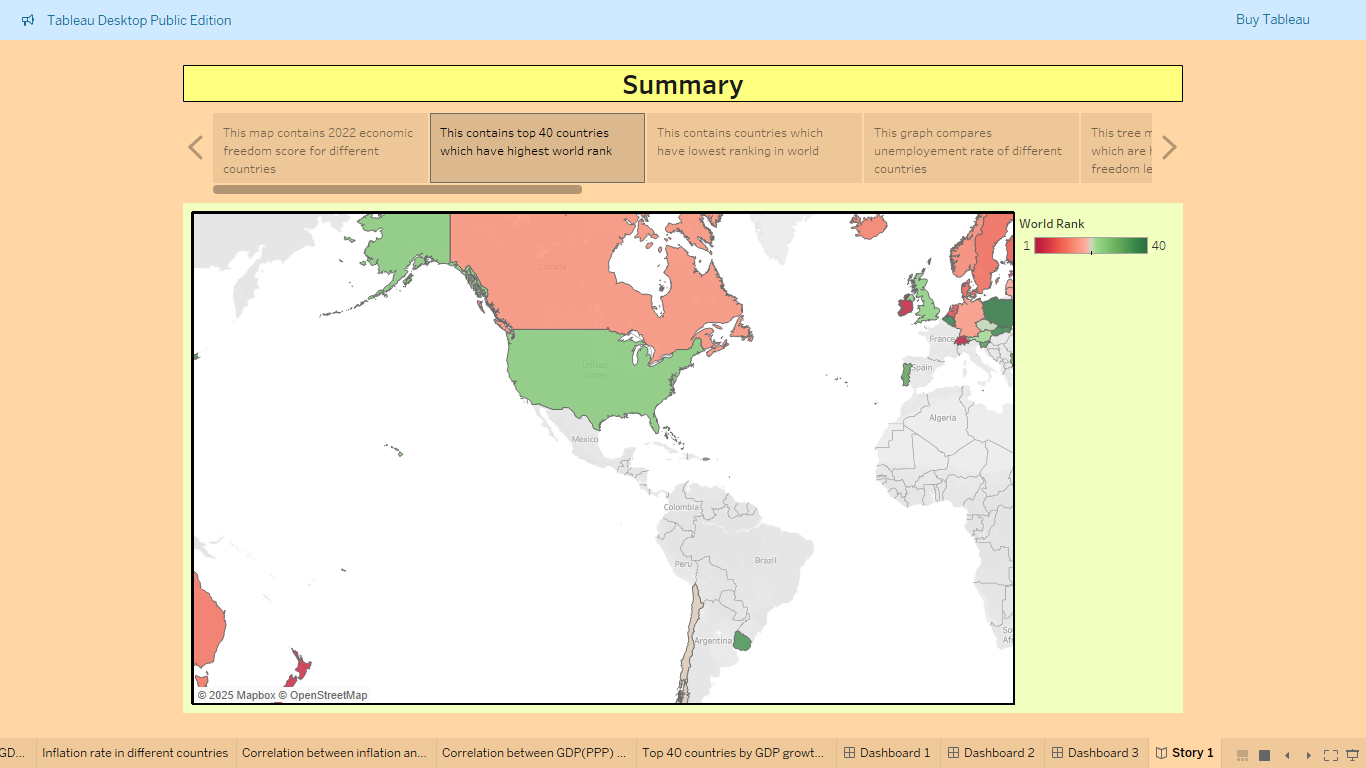

The dashboard page shown, as its layout file describes it:
{"tool":"tableau","page":{"name":"Dashboard 1","canvas":[1000,1000],"units":"permille","ordinal":0},"visuals":[{"type":"title","box":[10.7,14.3,978.7,73.2]},{"type":"worksheet","title":"Top 40 countries in the index","mark":"Automatic","box":[4,89.3,457.3,346.4]},{"type":"dashboard-object","box":[798.7,958.9,140,42.9]}]}

Visuals, with their boxes on the dashboard's canvas, which has no fixed pixel size, in thousandths of its width and height (x1, y1, x2, y2). These are canvas units, not pixel positions in the 1366x768 screenshot, which may show the page scaled, cropped or inside an application window:
title: x1=11, y1=14, x2=989, y2=88
"Top 40 countries in the index" worksheet: x1=4, y1=89, x2=461, y2=436
dashboard-object: x1=799, y1=959, x2=939, y2=1002
